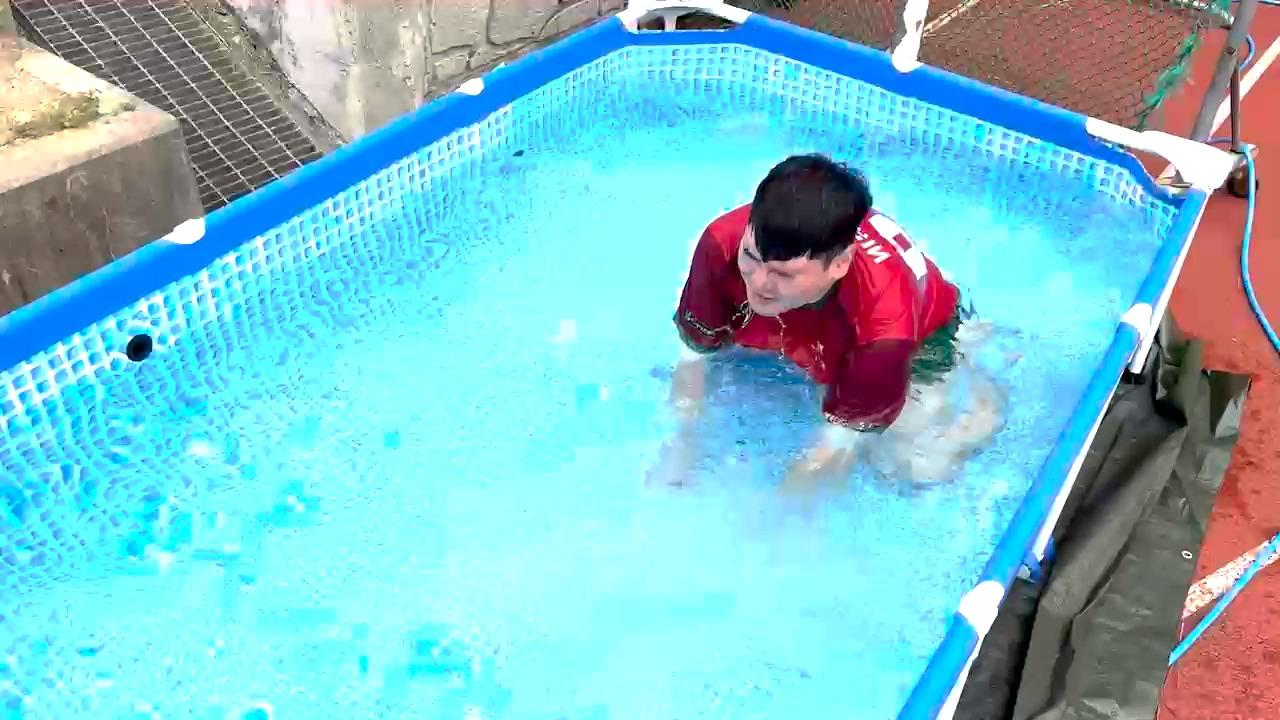Drowning: (590, 127, 1070, 515)
